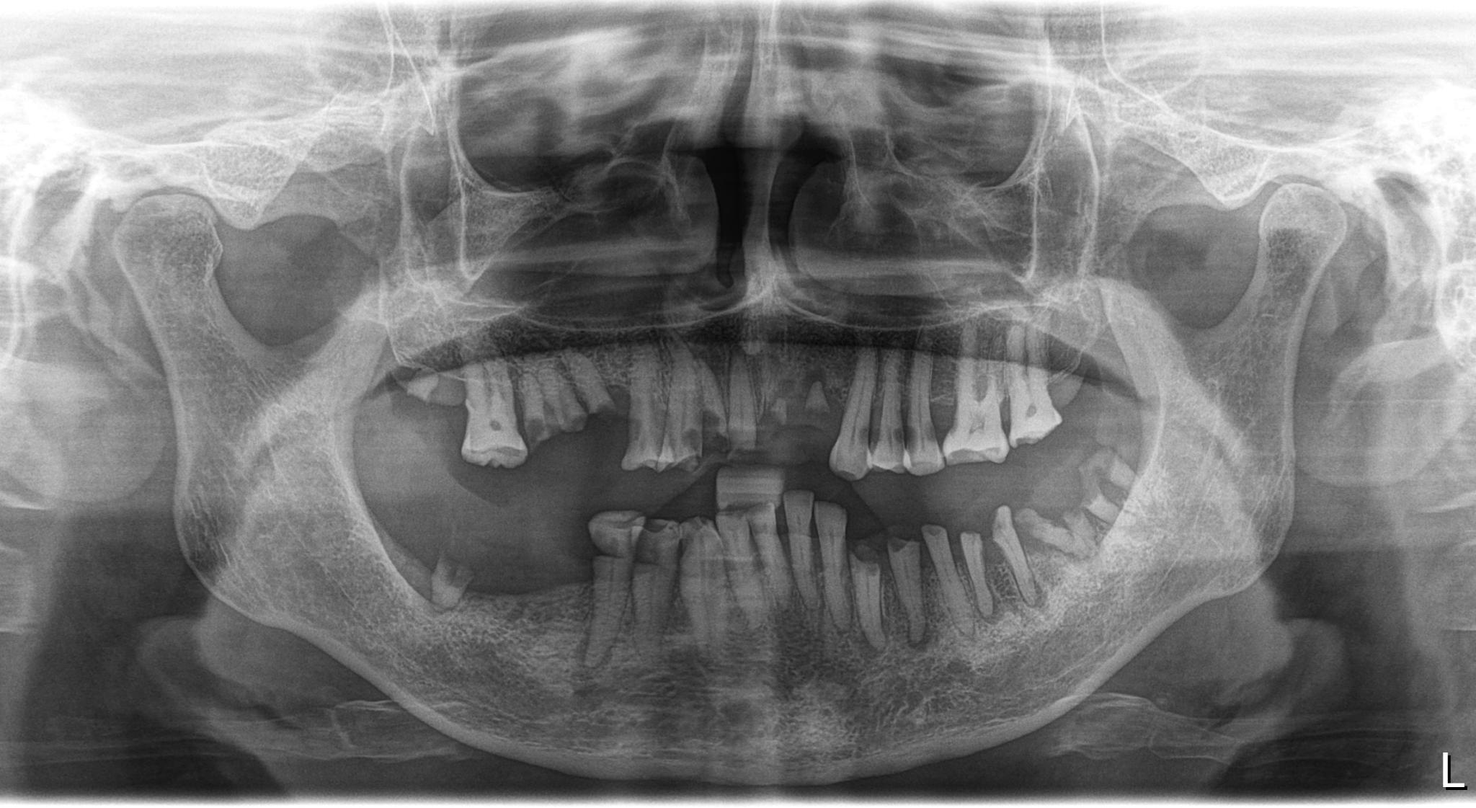Dental Caries: (665, 404, 739, 461), (841, 414, 949, 450), (587, 526, 675, 569)
Missing Tooth: (504, 517, 592, 647), (1058, 319, 1134, 428), (357, 375, 409, 460)
Retained Root: (762, 355, 843, 448), (402, 357, 465, 447), (423, 542, 485, 624), (1020, 501, 1073, 594), (544, 359, 582, 441), (595, 353, 628, 438), (515, 377, 546, 451)
